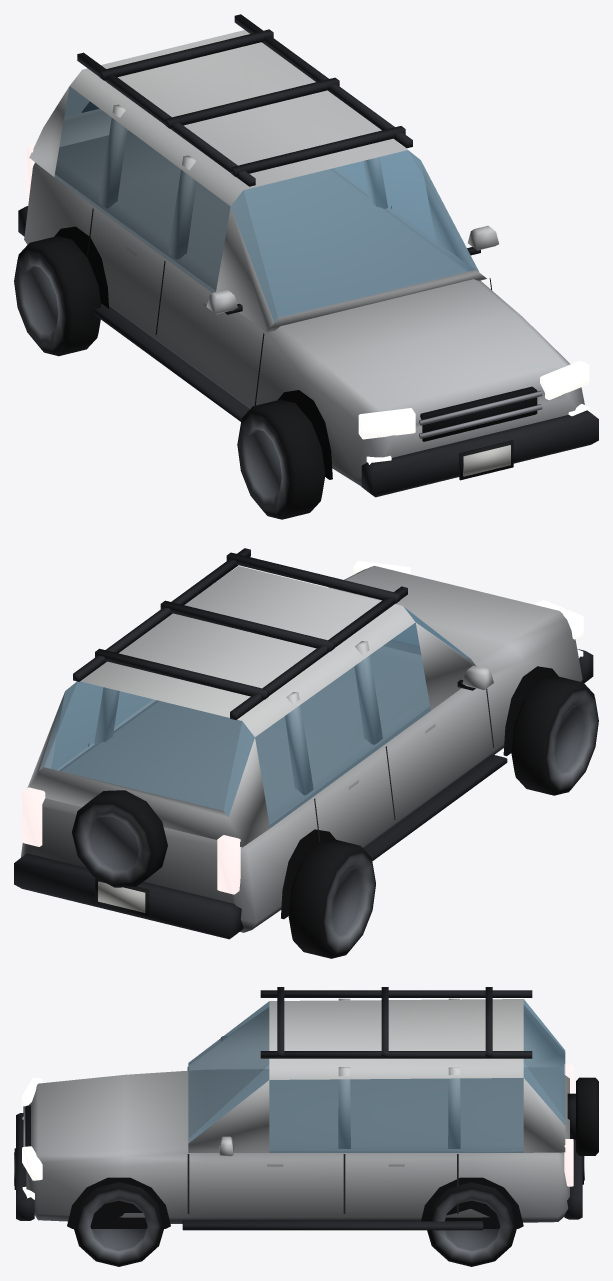
Rendered from camioneta.glb.
The picture shows the model from 3 angles, top to bottom: view 1: azimuth 30°, elevation 25°; view 2: azimuth 150°, elevation 25°; view 3: azimuth 270°, elevation 25°; orthographic projection. The views are drawn at different scales.
Visible parts, largest first — view 1: camioneta; view 2: camioneta; view 3: camioneta.
Boxes of the visible parts, <box> form: camioneta: <box>14,14,598,519</box>; camioneta: <box>14,548,598,958</box>; camioneta: <box>14,987,598,1266</box>.
Size of the model in its own units: 2.36 by 1.92 by 5.06.
